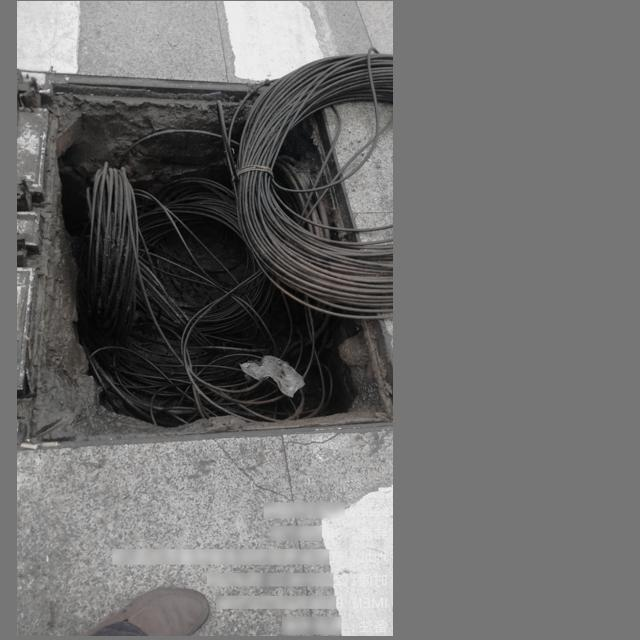lose: (25, 68, 384, 467)
